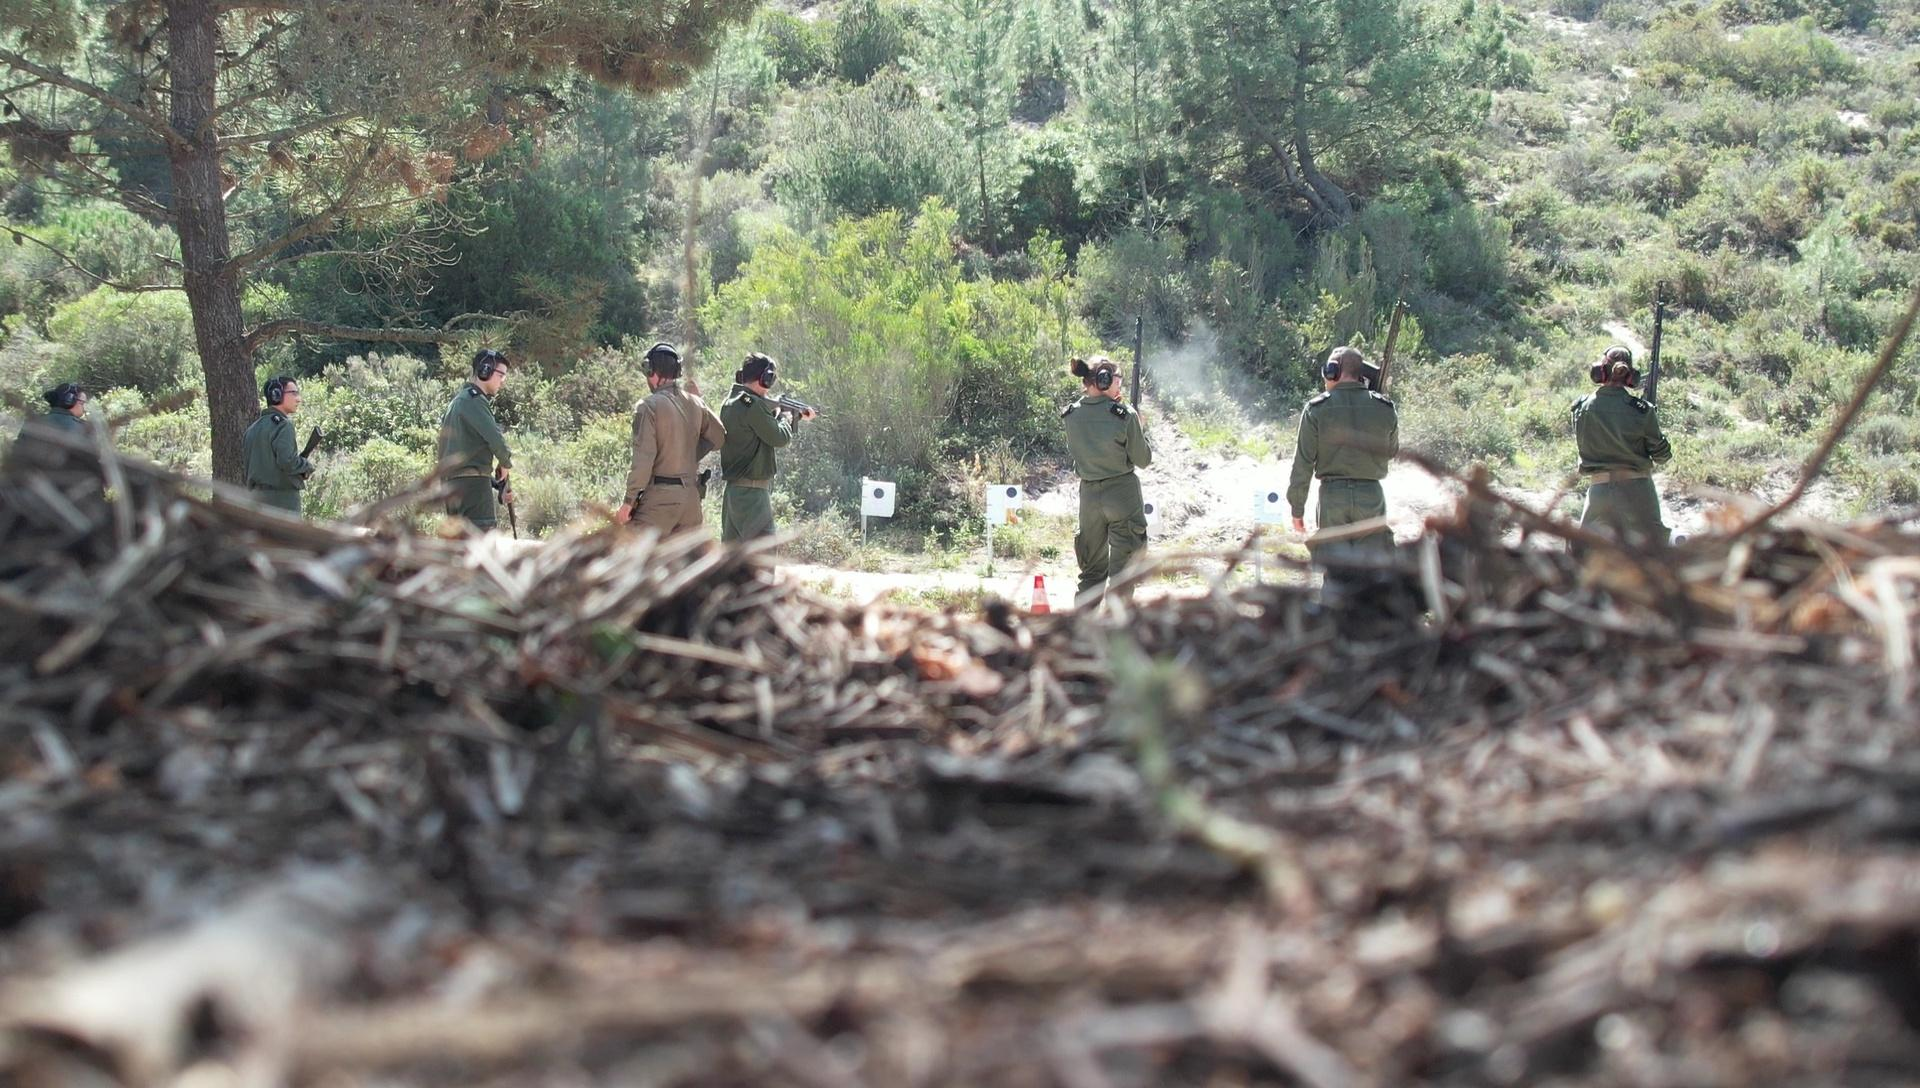Soldier: (1284, 287, 1424, 553), (1048, 332, 1178, 615), (1561, 274, 1695, 543), (615, 349, 727, 564), (431, 326, 533, 538), (207, 365, 324, 508), (719, 353, 812, 528)
